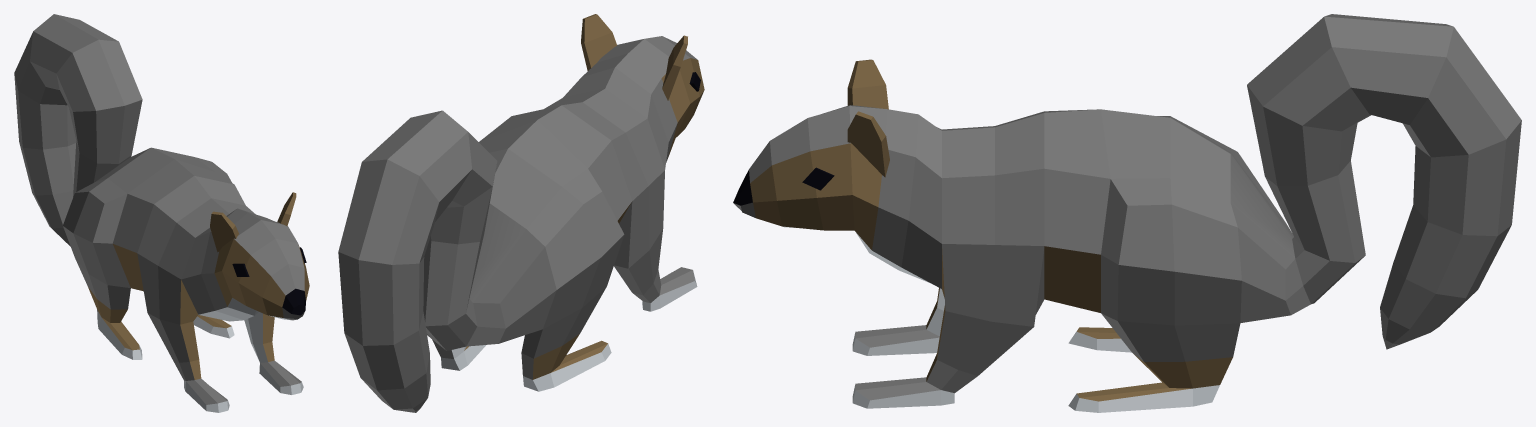
Rendered from squirrel.glb.
The picture shows the model from 3 angles, left to right: view 1: azimuth 30°, elevation 25°; view 2: azimuth 150°, elevation 25°; view 3: azimuth 270°, elevation 25°; orthographic projection. The views are drawn at different scales.
Parts seen in each view (by area): view 1: Geo_Squirrel; view 2: Geo_Squirrel; view 3: Geo_Squirrel.
Boxes of the visible parts, left/top/right/bottom form: Geo_Squirrel: left=14, top=14, right=309, bottom=412; Geo_Squirrel: left=338, top=14, right=704, bottom=412; Geo_Squirrel: left=733, top=14, right=1521, bottom=412.
Bounding box in the file's own units: 28.21 × 43.27 × 86.43.
